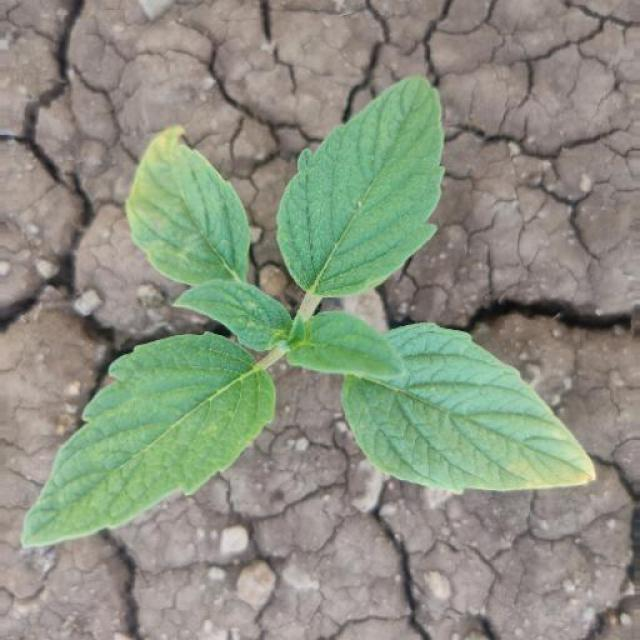crop: (19, 71, 606, 554)
